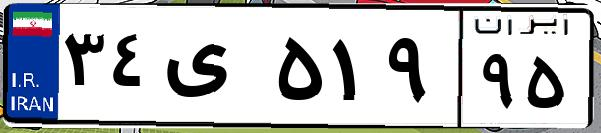1: (330, 28, 385, 110)
3: (57, 26, 110, 100)
4: (110, 28, 158, 98)
5: (270, 28, 330, 110), (525, 38, 570, 115)
9: (385, 28, 445, 110), (475, 38, 525, 113)
ی: (158, 20, 270, 120)
